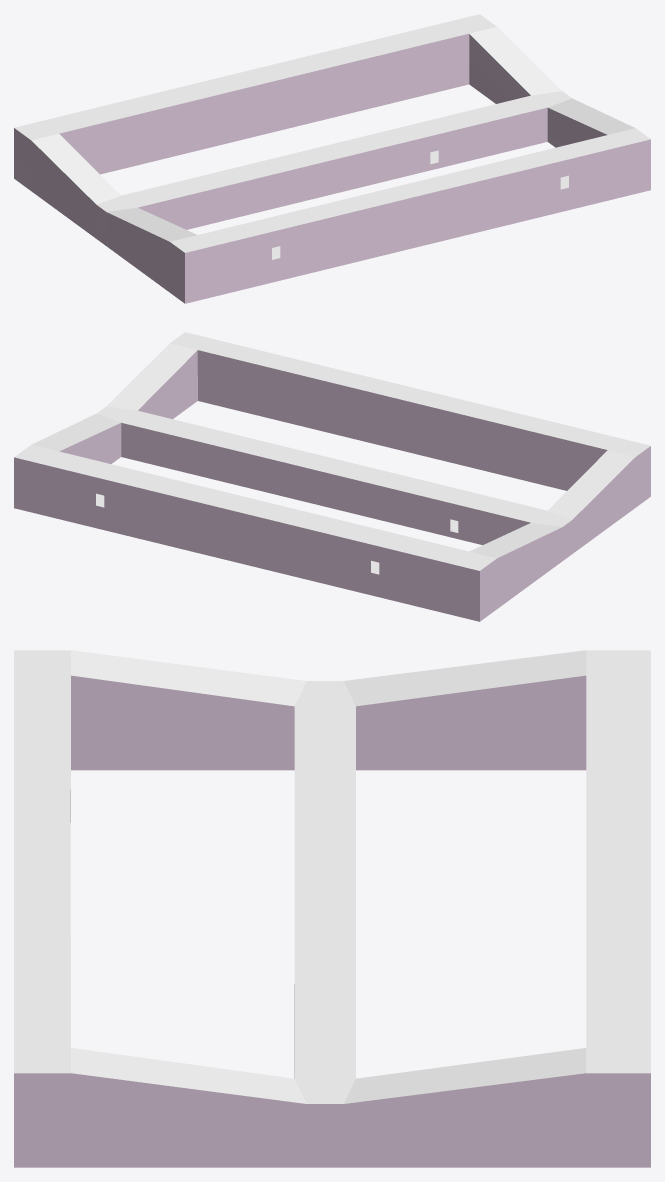
File: School_Lower_Ground.fbx
The picture shows the model from 3 angles, top to bottom: view 1: azimuth 30°, elevation 25°; view 2: azimuth 150°, elevation 25°; view 3: azimuth 270°, elevation 25°; orthographic projection. The views are drawn at different scales.
Parts seen in each view (by area): view 1: Cube.001; view 2: Cube.001; view 3: Cube.001.
Part boxes in pixels (<box>): Cube.001: <box>14,14,650,303</box>; Cube.001: <box>14,332,650,621</box>; Cube.001: <box>14,650,650,1167</box>.
Bounding box in the file's own units: 6482 × 676 × 4125.
